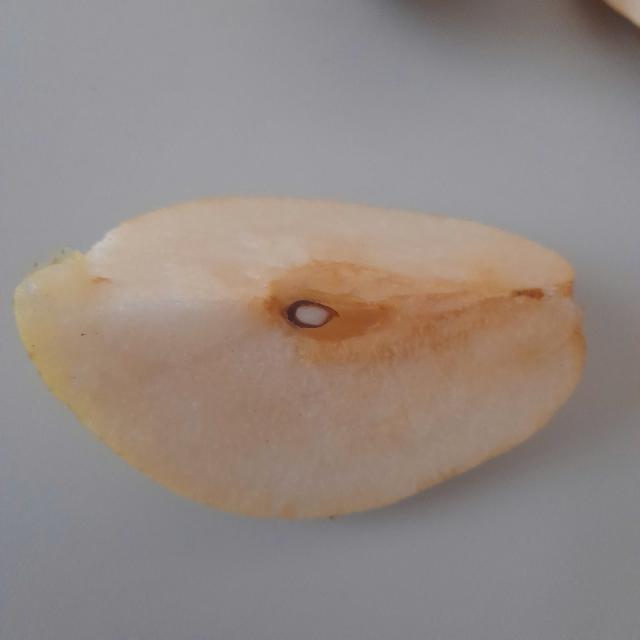Le: (12, 199, 590, 528)
